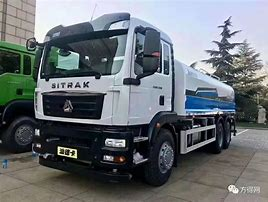oil truck: (23, 9, 240, 182)
